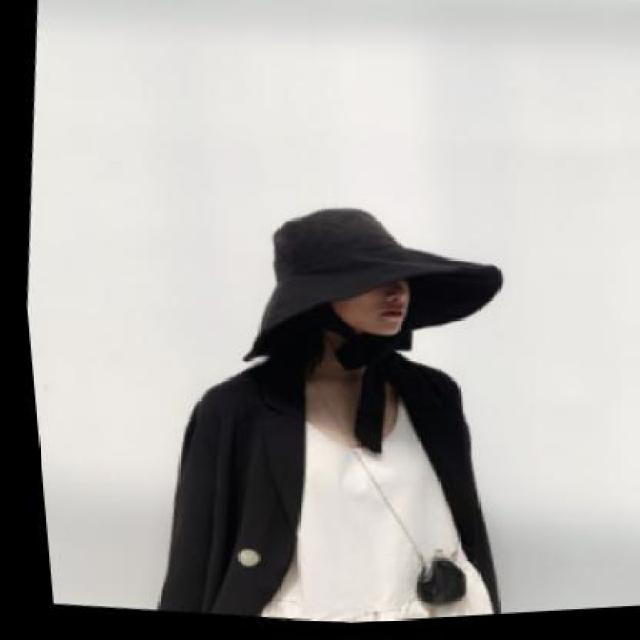hat: (215, 169, 516, 400)
